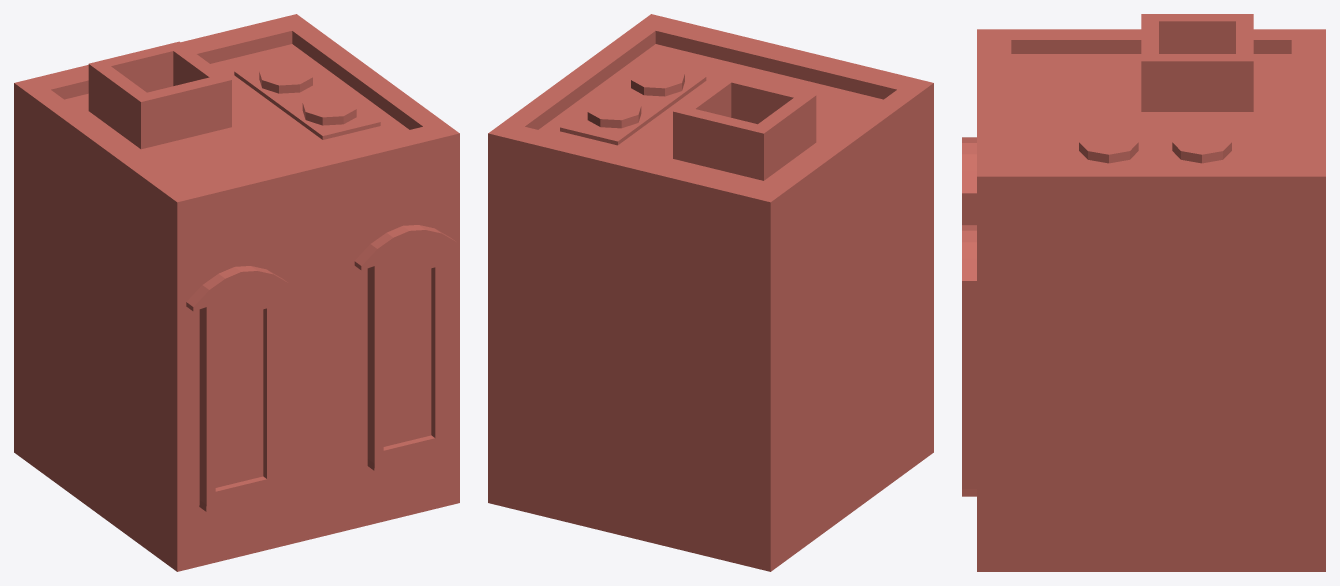
Rendered from NYHouseRoof.fbx.
3 renders of one model, left to right at view 1: azimuth 30°, elevation 25°; view 2: azimuth 150°, elevation 25°; view 3: azimuth 270°, elevation 25°, orthographic. The views are drawn at different scales.
Parts seen in each view (by area): view 1: House_Roof; view 2: House_Roof; view 3: House_Roof.
Part boxes in pixels (x1,y1,x2,y2): House_Roof: (14, 14, 459, 571); House_Roof: (488, 14, 933, 571); House_Roof: (962, 14, 1325, 571).
Bounding box in the file's own units: 80 × 109 × 83.38.
